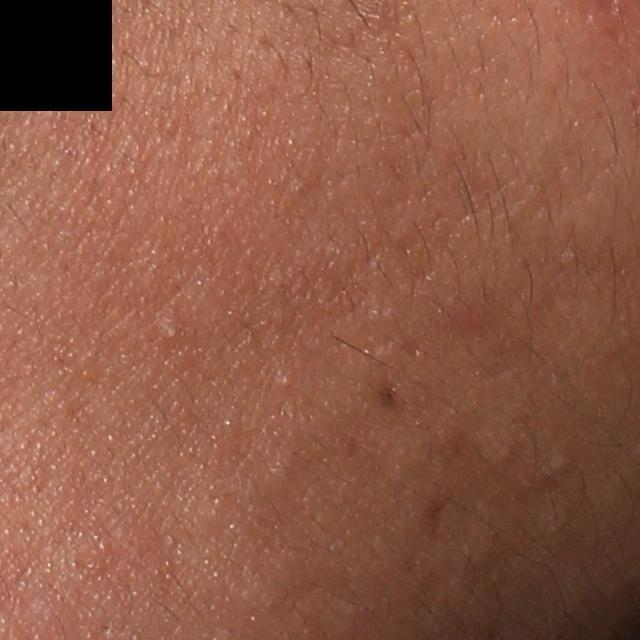comedo: (548, 447, 568, 474), (278, 374, 295, 391)
nevus: (375, 382, 402, 410)
